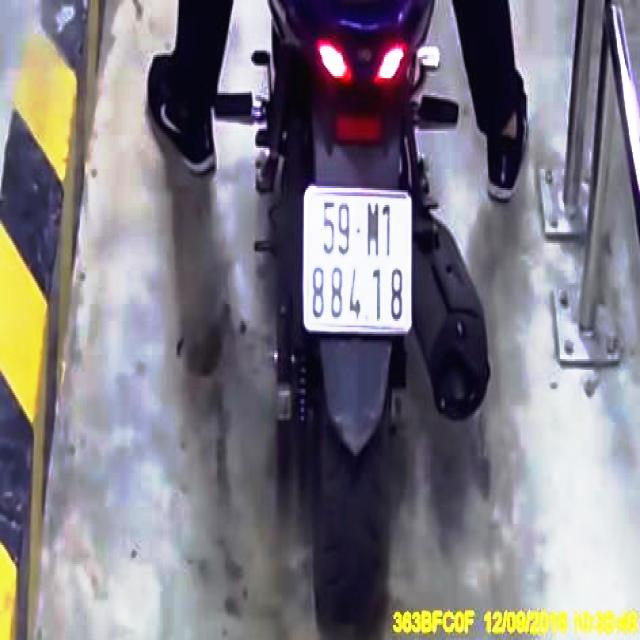license_plate: (308, 193, 413, 329)
